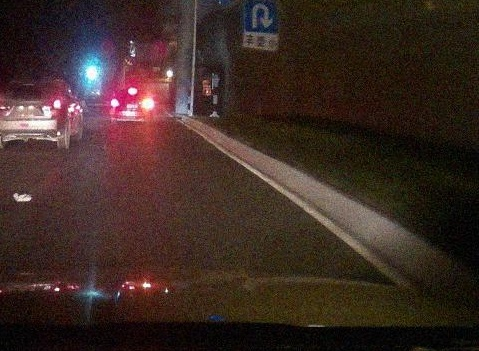L_light: (0, 101, 12, 110), (112, 99, 121, 106)
R_light: (42, 99, 61, 108), (142, 100, 150, 107)
T_light: (28, 83, 40, 87), (128, 90, 136, 94)
night-no: (0, 79, 63, 149)
night-right: (111, 89, 151, 125)
